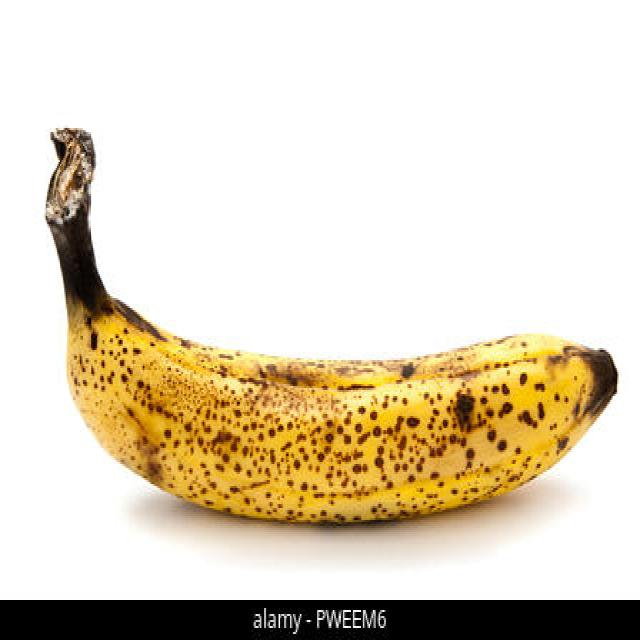overripe: (41, 142, 624, 529)
